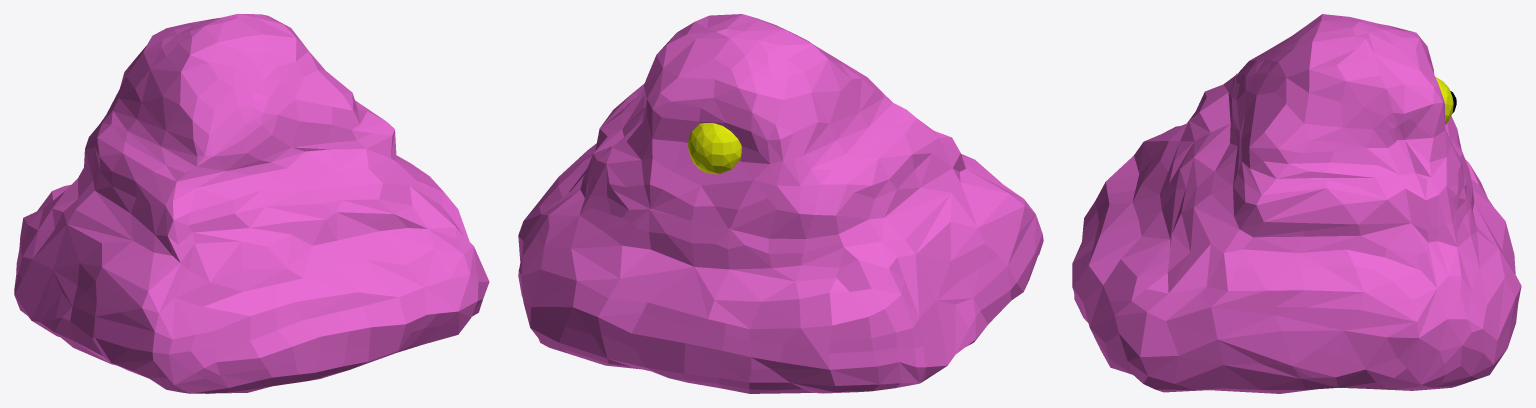
File: jose.glb
3 renders of one model, left to right at view 1: azimuth 30°, elevation 25°; view 2: azimuth 150°, elevation 25°; view 3: azimuth 270°, elevation 25°, orthographic. The views are drawn at different scales.
Parts seen in each view (by area): view 1: Jose; view 2: Jose; view 3: Jose.
Boxes of the visible parts, left/top/right/bottom form: Jose: left=14, top=14, right=489, bottom=393; Jose: left=518, top=14, right=1043, bottom=393; Jose: left=1072, top=14, right=1521, bottom=393.
Size of the model in its own units: 6.55 by 4.65 by 6.38.
